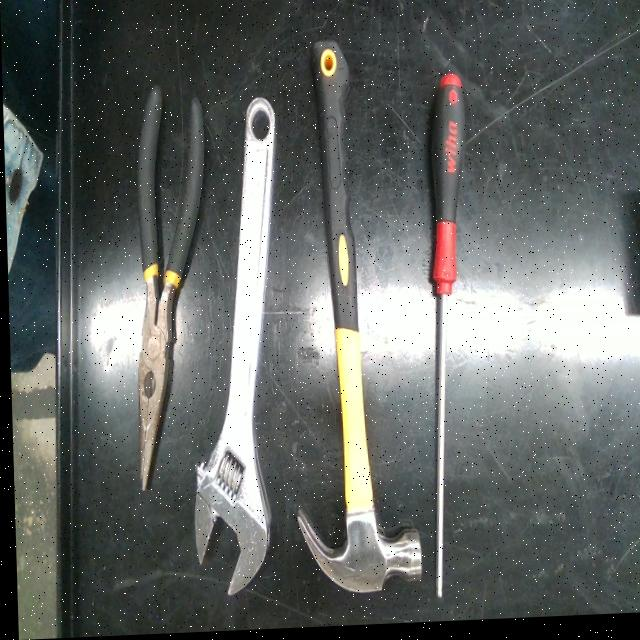Screwdriver: (430, 78, 464, 600)
